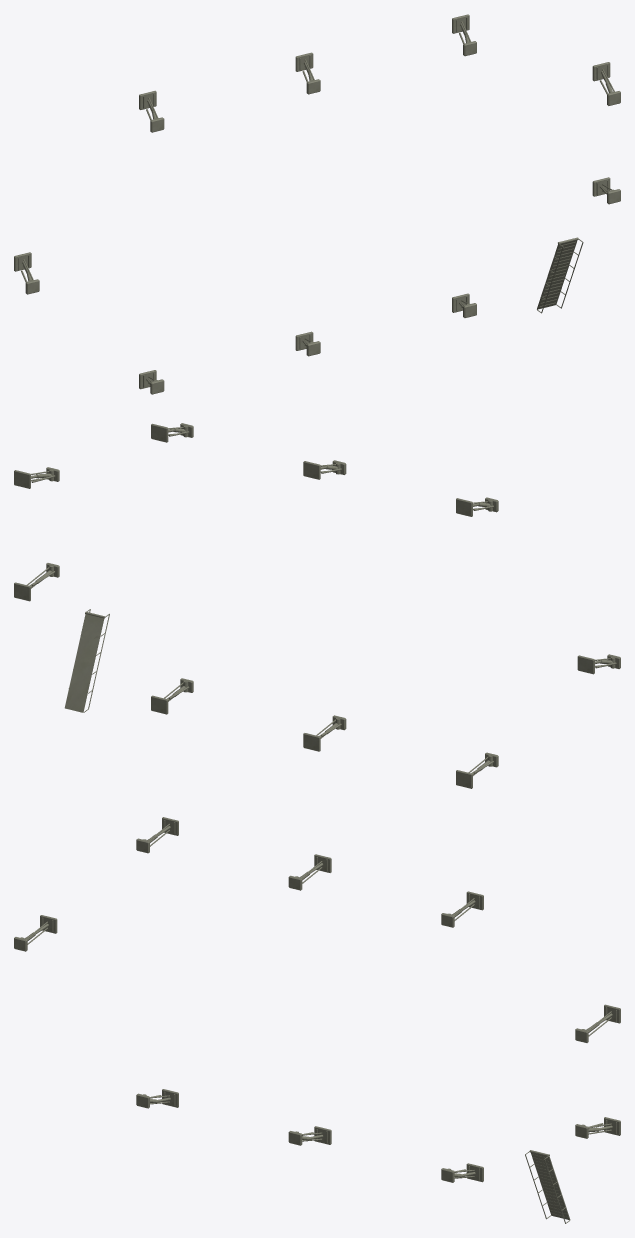
The model's file is ECHO7_14_Tren_Aterrizaje_Rampa.obj.
3 renders of one model, top to bottom at view 1: azimuth 30°, elevation 25°; view 2: azimuth 150°, elevation 25°; view 3: azimuth 330°, elevation 25°, orthographic. The views are drawn at different scales.
Parts seen in each view (by area): view 1: ECHO7_14_Tren_Aterrizaje_Rampa__Rampa_tablero_01; view 2: ECHO7_14_Tren_Aterrizaje_Rampa__Rampa_tablero_01; view 3: ECHO7_14_Tren_Aterrizaje_Rampa__Rampa_tablero_01.
Boxes of the visible parts, x1,y1,x2,y2 form: ECHO7_14_Tren_Aterrizaje_Rampa__Rampa_tablero_01: (537, 240, 577, 309); ECHO7_14_Tren_Aterrizaje_Rampa__Rampa_tablero_01: (64, 614, 104, 712); ECHO7_14_Tren_Aterrizaje_Rampa__Rampa_tablero_01: (531, 1152, 570, 1219).
Size of the model in its own units: 77.1 by 38.22 by 6.03.
1 material, 1 textured.
